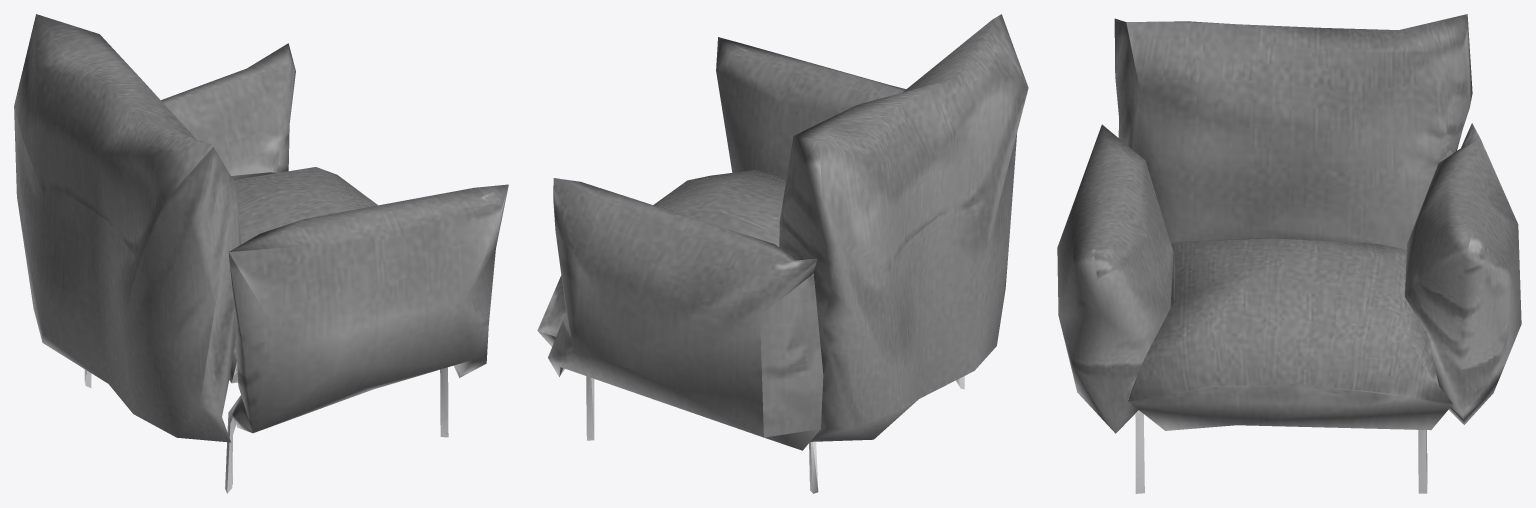
Rendered from S_Sofa0016.obj.
The picture shows the model from 3 angles, left to right: view 1: azimuth 30°, elevation 25°; view 2: azimuth 150°, elevation 25°; view 3: azimuth 270°, elevation 25°; orthographic projection. The views are drawn at different scales.
Size of the model in its own units: 0.683 by 0.729 by 0.843.
1 material, 1 textured.
